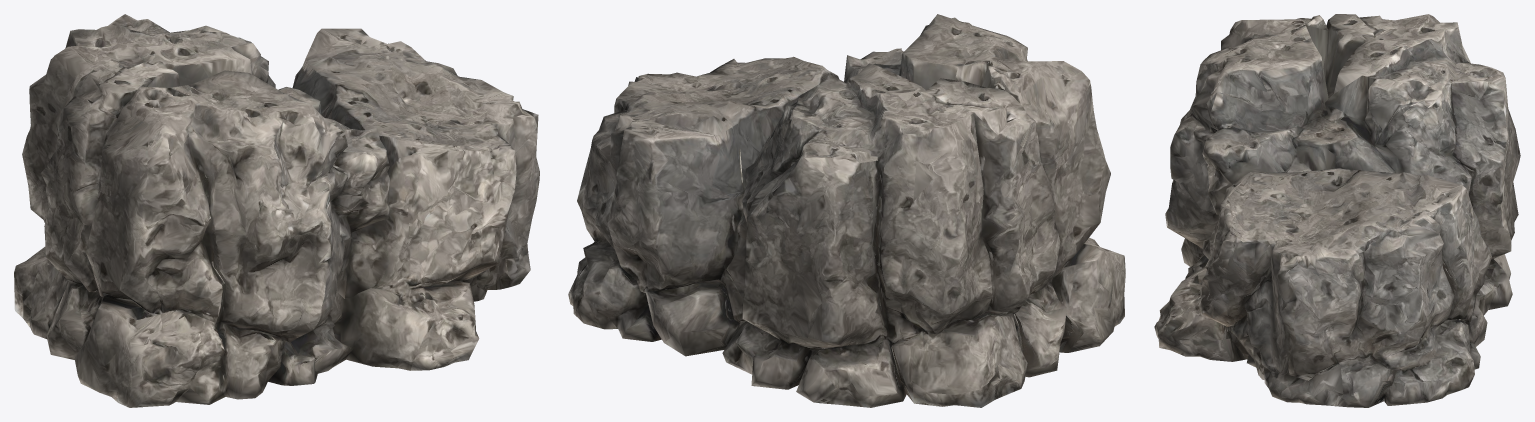
File: outcrop_a_lod1.glb
3 renders of one model, left to right at view 1: azimuth 30°, elevation 25°; view 2: azimuth 150°, elevation 25°; view 3: azimuth 270°, elevation 25°, orthographic. The views are drawn at different scales.
Parts seen in each view (by area): view 1: outcrop_a_lod1; view 2: outcrop_a_lod1; view 3: outcrop_a_lod1.
Boxes of the visible parts, box(x1,y1,x2,y2) form: outcrop_a_lod1: box(14, 14, 539, 407); outcrop_a_lod1: box(568, 14, 1125, 407); outcrop_a_lod1: box(1154, 14, 1520, 407).
Size of the model in its own units: 19.01 by 10.34 by 14.79.
Materials: 1 (1 with a texture image).
